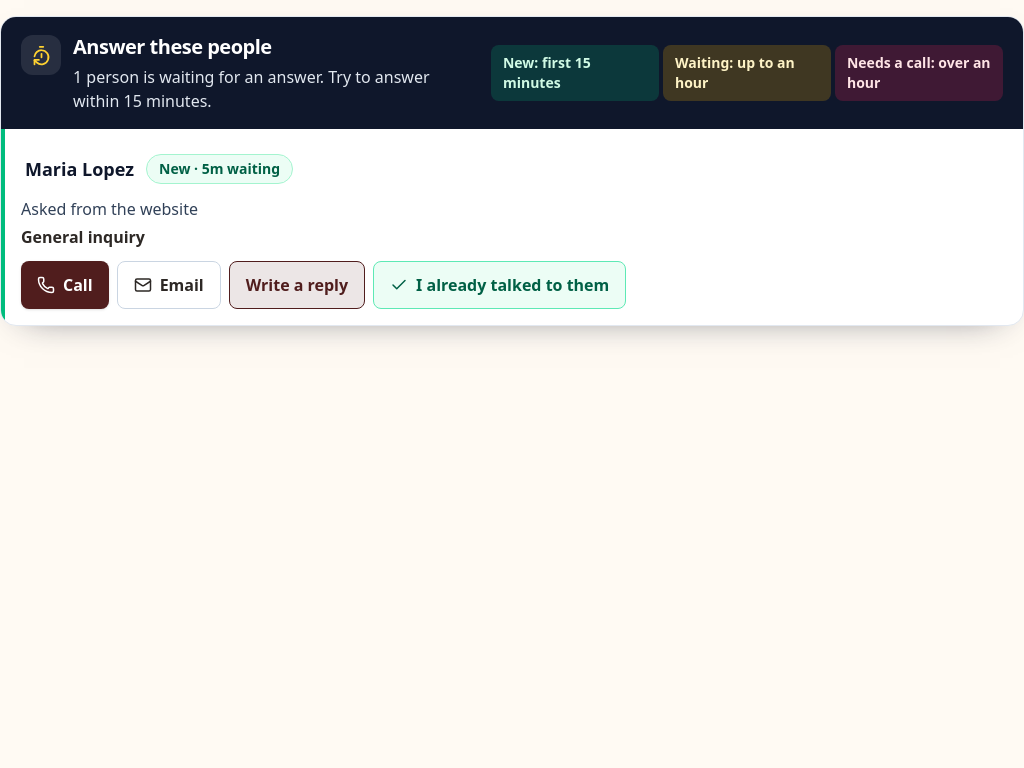
Test: LeadResponseQueue › sends a short reply from the list and marks the person answered
Click the button with aria-label "Write Maria Lopez a reply": (297, 285) [229,261,365,309]
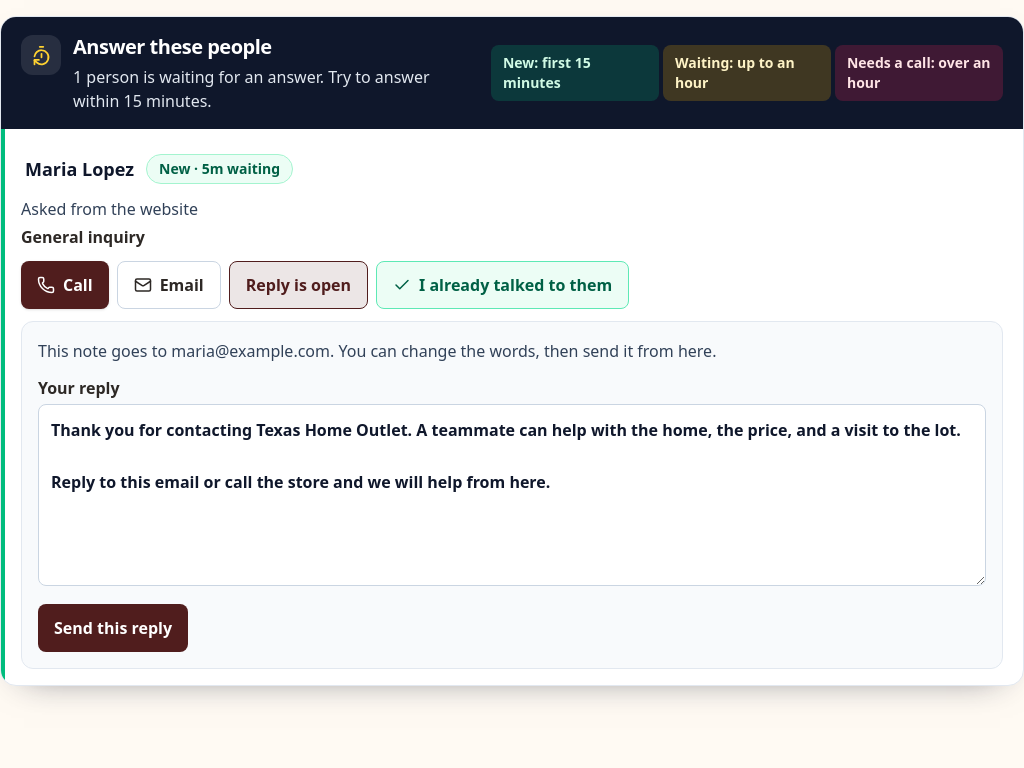
Click the button "Send this reply": (113, 628) [38,604,188,652]
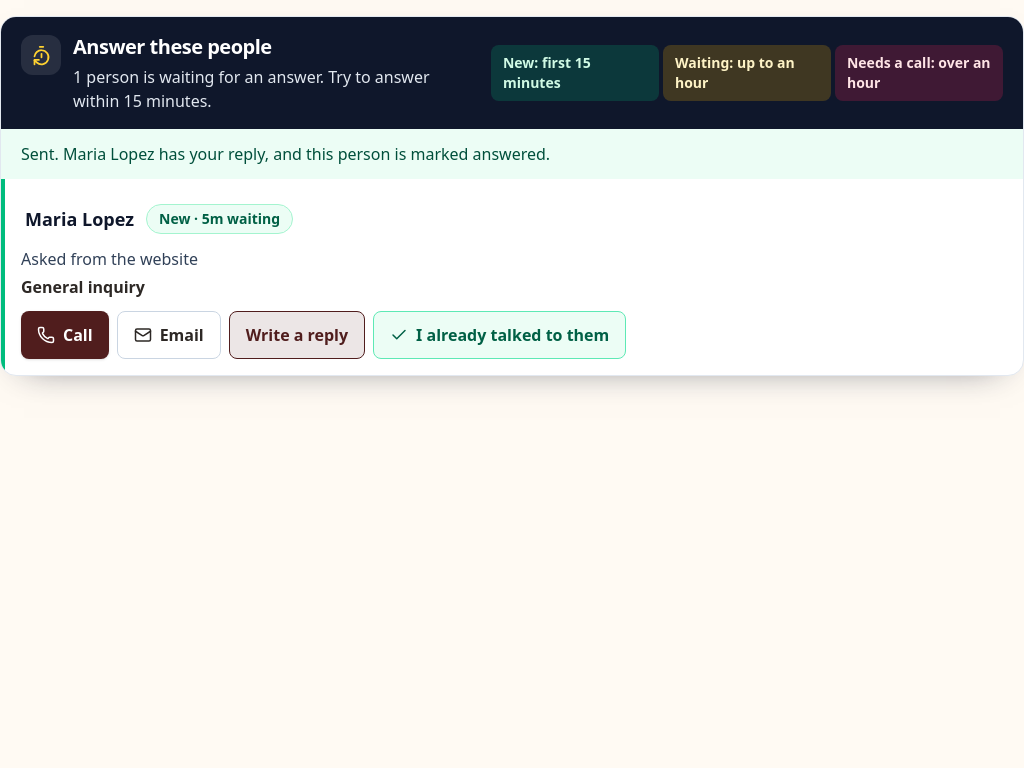
Now the message shows "Sent. Maria Lopez has your reply", box [21,143,550,165]
